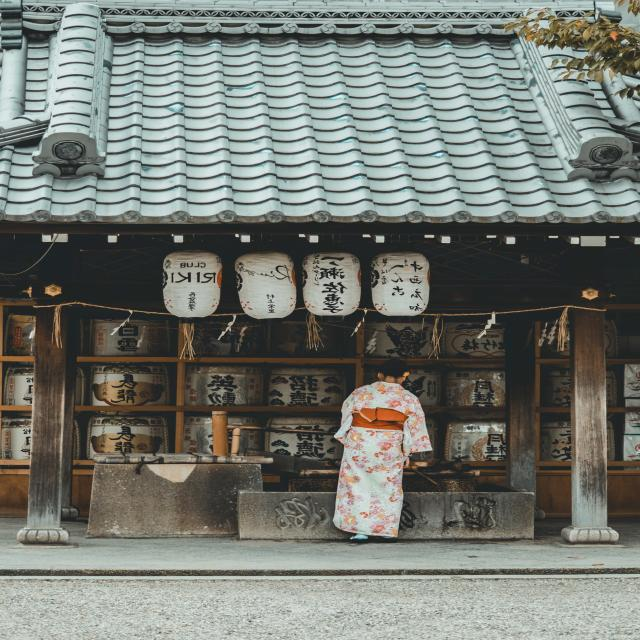adult: (335, 358, 431, 540)
